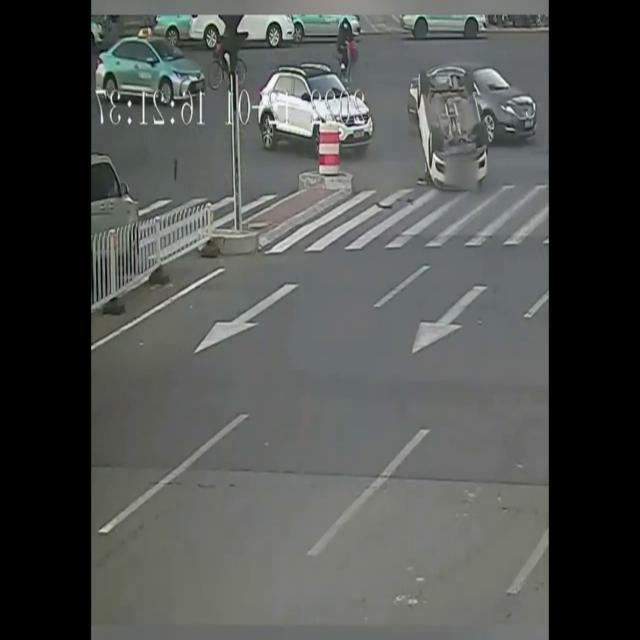accident: (415, 59, 537, 189), (414, 64, 486, 188)
